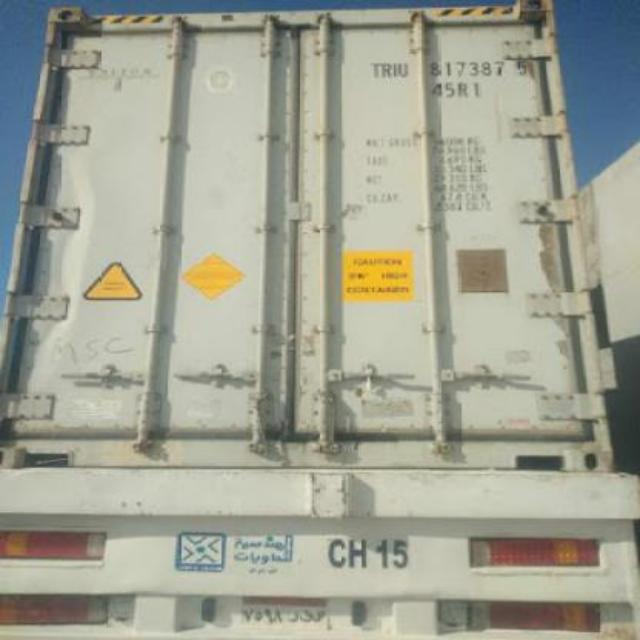1: (441, 57, 454, 77)
3: (466, 60, 482, 78)
5: (514, 54, 530, 78)
7: (492, 54, 506, 80), (454, 56, 468, 80)
8: (478, 55, 494, 81), (424, 58, 440, 78)
I: (390, 56, 398, 80)
R: (380, 59, 390, 82)
T: (364, 55, 382, 81)
U: (396, 58, 409, 82)
